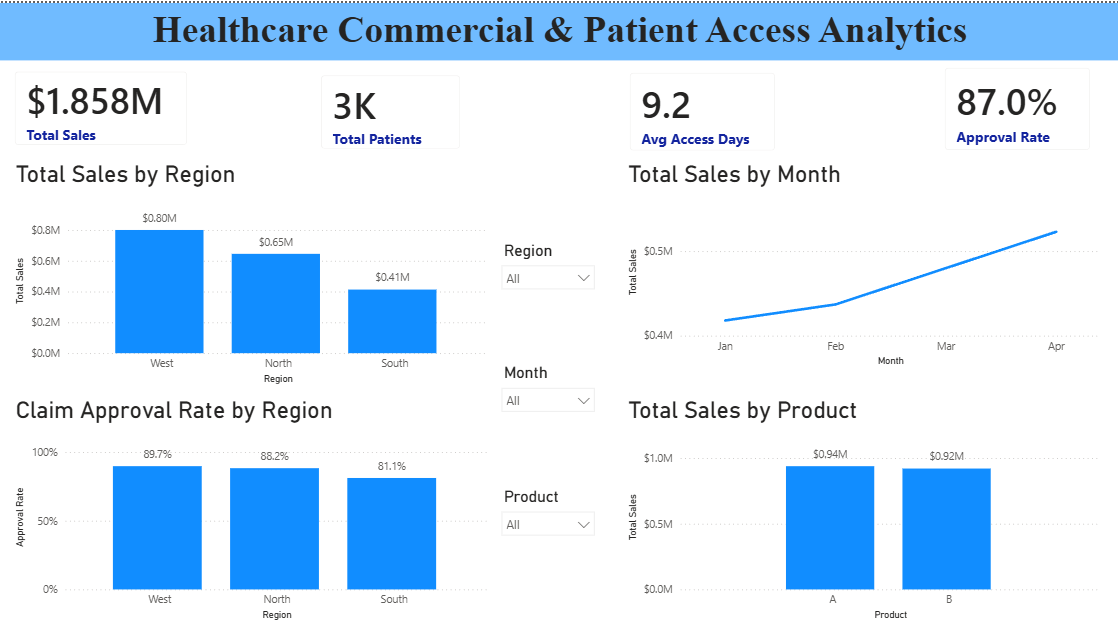

This screenshot's page, from the dashboard's own definition file:
{"tool":"powerbi","page":{"name":"Page 1","canvas":[1280,720],"ordinal":0},"visuals":[{"type":"cardVisual","fields":{"Data":["Data.Total Sales"]},"box":[0,61.4,231.4,118.6],"z":0},{"type":"cardVisual","fields":{"Data":["Data.Total Patients"]},"box":[350,65,193.3,118.3],"z":1000},{"type":"cardVisual","fields":{"Data":["Data.Approval Rate"]},"box":[1063.3,56.7,200,128.3],"z":2000},{"type":"cardVisual","fields":{"Data":["Data.Avg Access Days"]},"box":[703.3,63.3,200,123.3],"z":3000},{"type":"clusteredColumnChart","fields":{"Category":["Data.Region"],"Y":["Data.Total Sales"]},"box":[13.3,180,550,260],"z":4000},{"type":"lineChart","fields":{"Category":["Data.Month"],"Y":["Data.Total Sales"]},"box":[713.3,180,550,240],"z":5000},{"type":"clusteredColumnChart","title":"Claim Approval Rate by Region","fields":{"Category":["Data.Region"],"Y":["Data.Approval Rate"]},"box":[13.3,450,550,260],"z":6000},{"type":"clusteredColumnChart","fields":{"Category":["Data.Product"],"Y":["Data.Total Sales"]},"box":[713.3,450,550,260],"z":7000},{"type":"slicer","fields":{"Values":["Data.Region"]},"box":[563.3,266.7,126.7,65],"z":8000},{"type":"slicer","fields":{"Values":["Data.Product"]},"box":[563.3,548.3,126.7,65],"z":9000},{"type":"slicer","fields":{"Values":["Data.Month"]},"box":[563.3,407.5,126.7,65],"z":10000},{"type":"textbox","box":[0,0,1280,65.7],"z":11000}]}

Visuals, with their boxes in screenshot pixels (x1, y1, x2, y2), scaled from the page's 1280x720 canvas onto the 1118x630 screenshot:
cardVisual - Data.Total Sales: region(0, 54, 202, 158)
cardVisual - Data.Total Patients: region(306, 57, 475, 160)
cardVisual - Data.Approval Rate: region(929, 50, 1103, 162)
cardVisual - Data.Avg Access Days: region(614, 55, 789, 163)
clusteredColumnChart - Data.Region x Data.Total Sales: region(12, 158, 492, 385)
lineChart - Data.Month x Data.Total Sales: region(623, 158, 1103, 368)
"Claim Approval Rate by Region" clusteredColumnChart: region(12, 394, 492, 621)
clusteredColumnChart - Data.Product x Data.Total Sales: region(623, 394, 1103, 621)
slicer - Data.Region: region(492, 233, 603, 290)
slicer - Data.Product: region(492, 480, 603, 537)
slicer - Data.Month: region(492, 357, 603, 413)
textbox: region(0, 0, 1117, 57)
